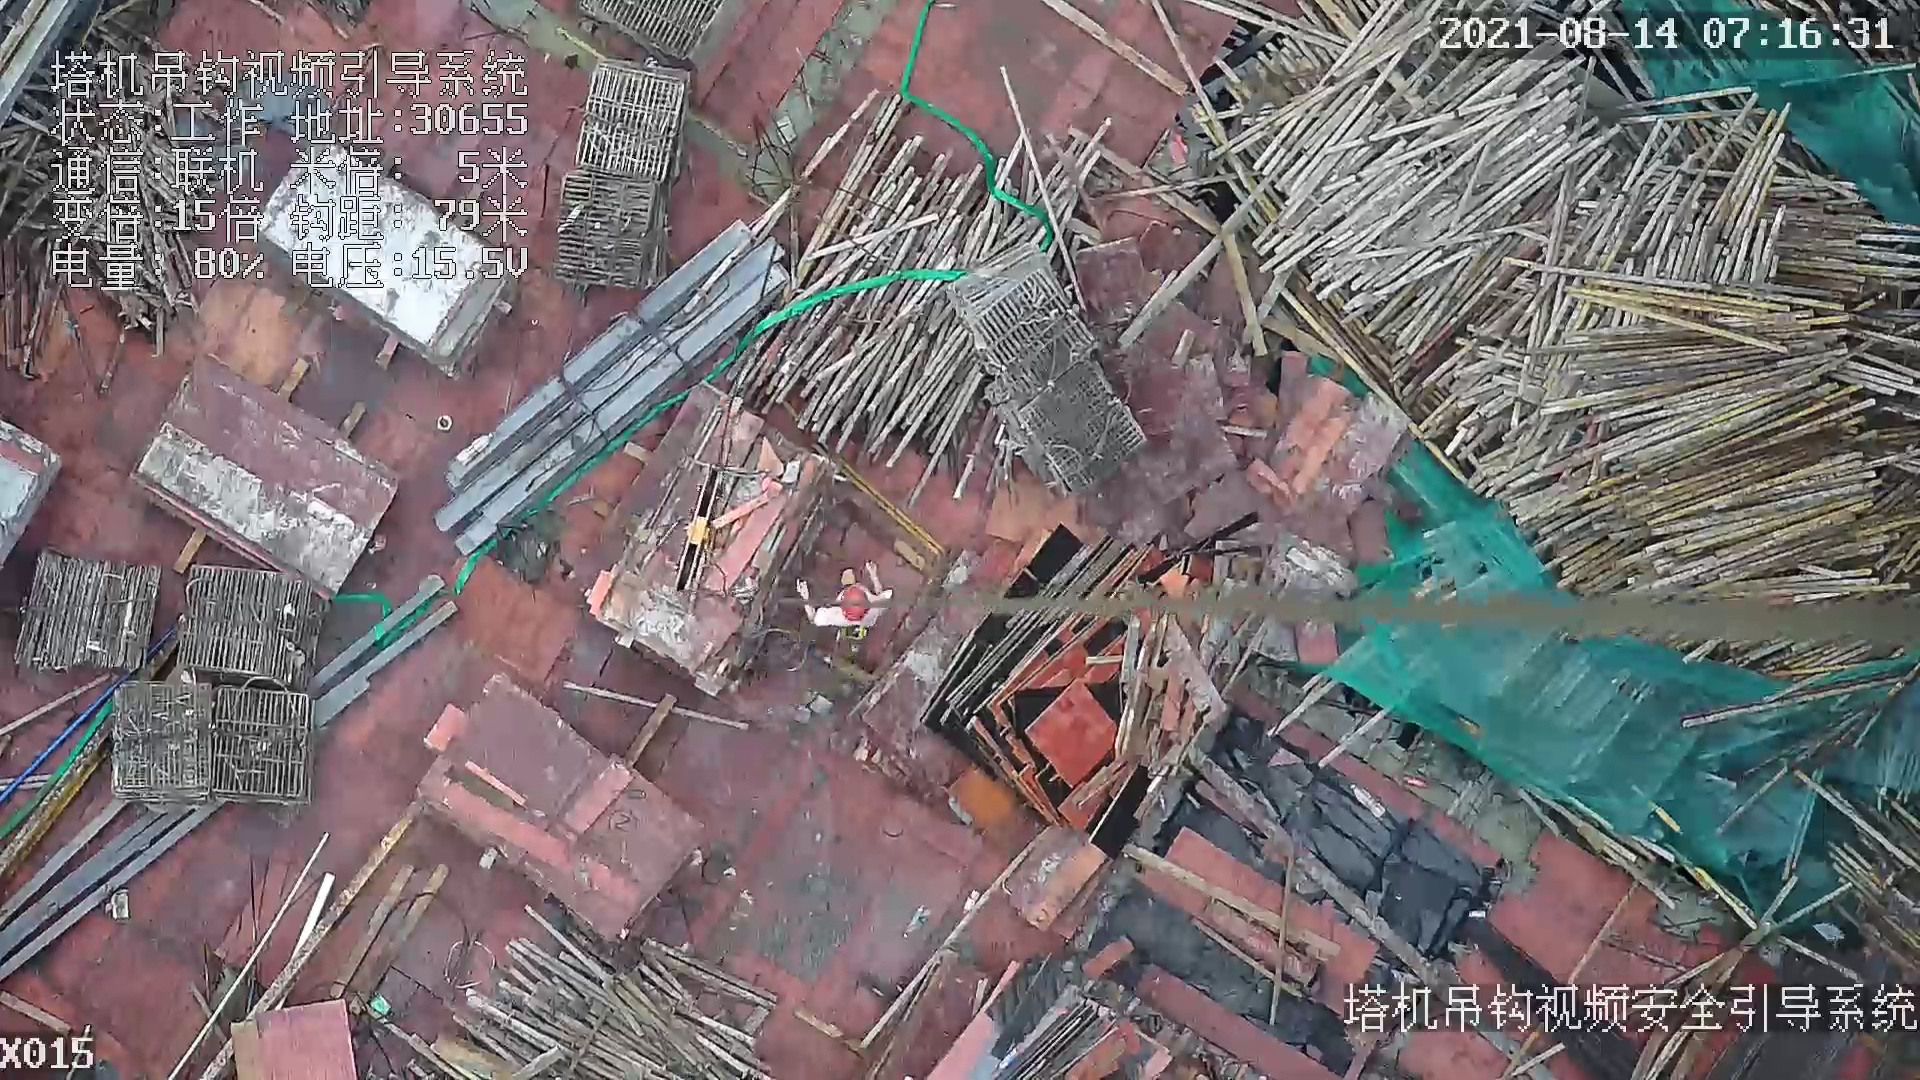helmet: (840, 586, 870, 623)
hook: (668, 464, 719, 592)
person: (783, 565, 899, 636)
